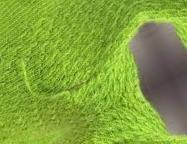snag: (17, 55, 74, 106)
